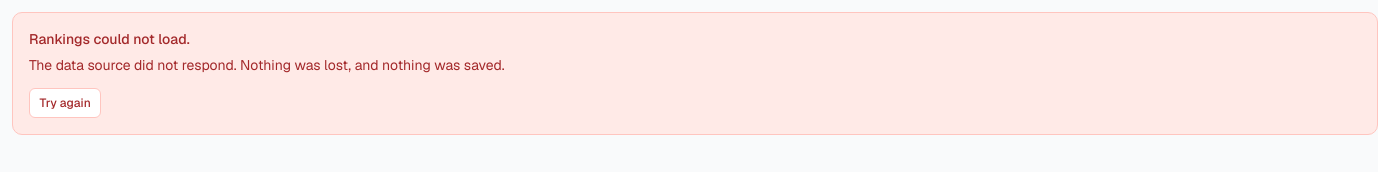
Test: GuardedSuspense › retries when asked and can then succeed
Click the button "Try again": (65, 103) [29,88,101,118]
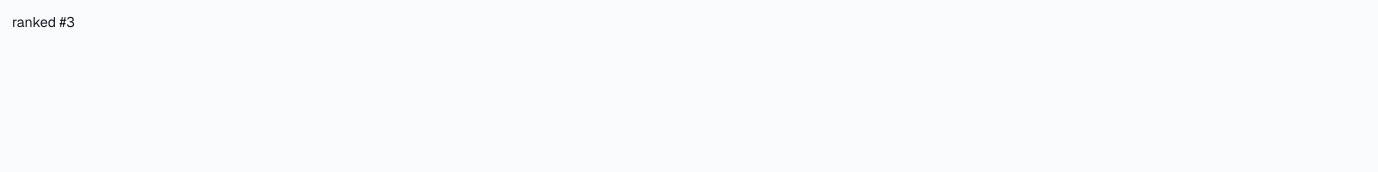
expect the text "ranked #3" is shown: met, box [12,13,75,31]
expect the message "Rankings could not load. The data source did not respond. Nothing was lost, and" is gone: met
